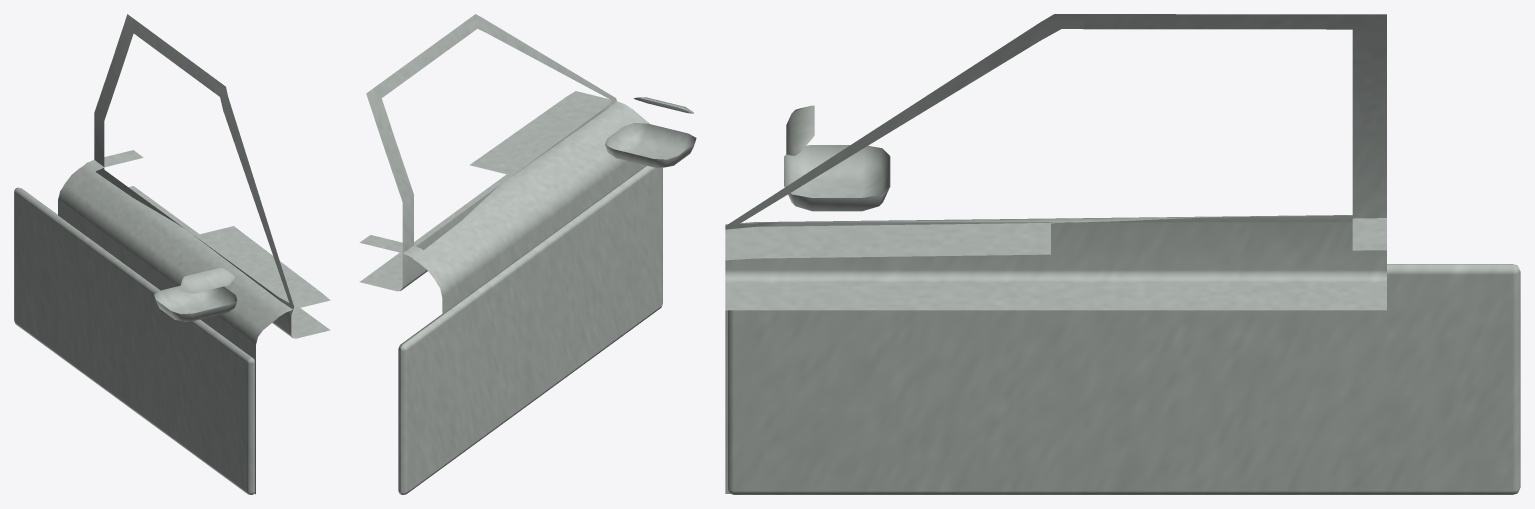
3 renders of one model, left to right at view 1: azimuth 30°, elevation 25°; view 2: azimuth 150°, elevation 25°; view 3: azimuth 270°, elevation 25°, orthographic. The views are drawn at different scales.
Size of the model in its own units: 0.4087 by 0.935 by 1.25.
1 material, 1 textured.
